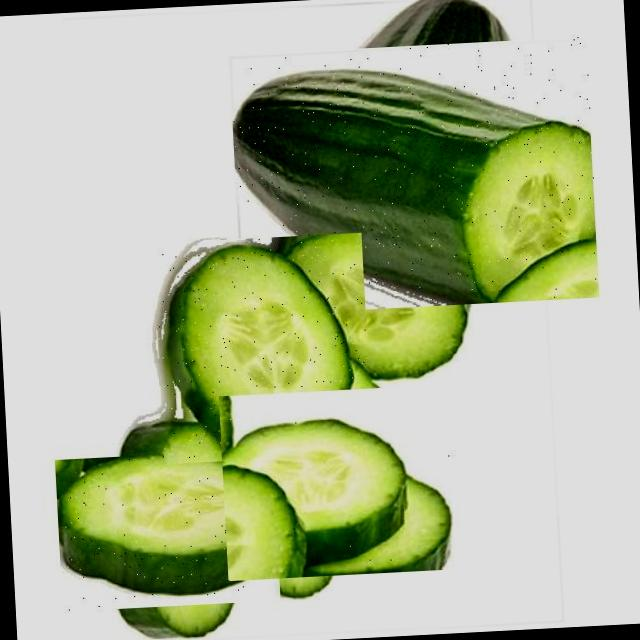Cucumber: (224, 52, 603, 316)
